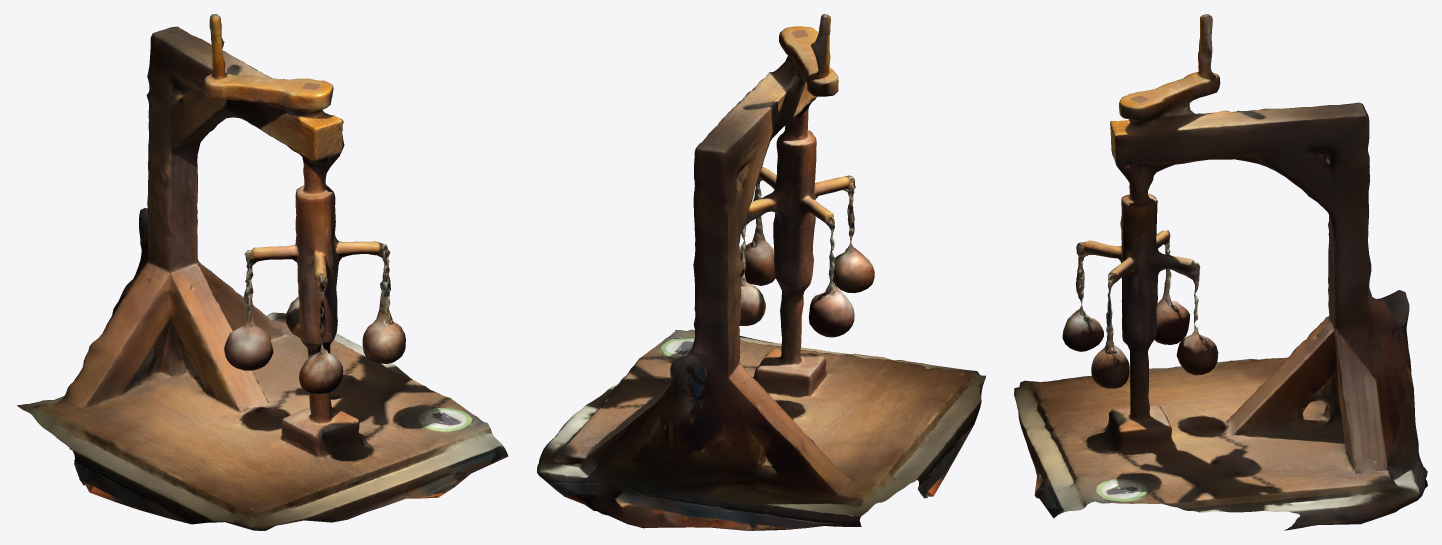
3 renders of one model, left to right at view 1: azimuth 30°, elevation 25°; view 2: azimuth 150°, elevation 25°; view 3: azimuth 270°, elevation 25°, orthographic. The views are drawn at different scales.
Visible parts, largest first — view 1: ObjectCapture; view 2: ObjectCapture; view 3: ObjectCapture.
Boxes of the visible parts, <box> form: ObjectCapture: <box>17,14,508,530</box>; ObjectCapture: <box>537,14,985,530</box>; ObjectCapture: <box>1014,14,1427,530</box>.
Size of the model in its own units: 0.6949 by 0.9153 by 0.8048.
Materials: 1 (1 with a texture image).
